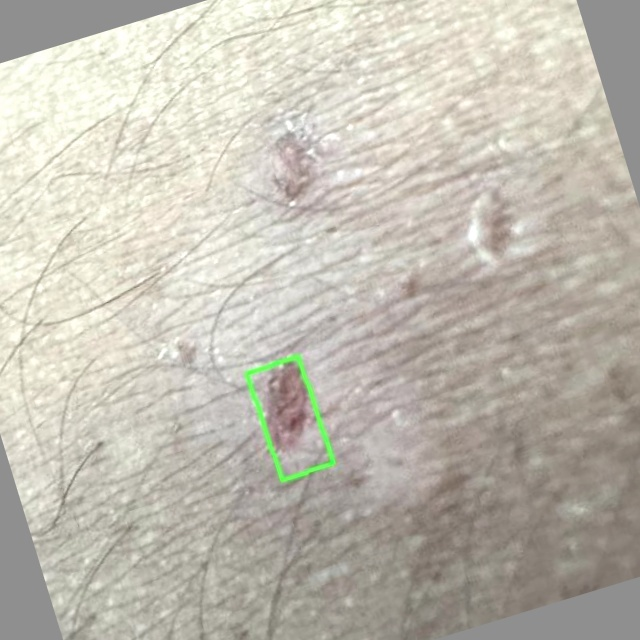Scabies: (248, 356, 334, 480)
